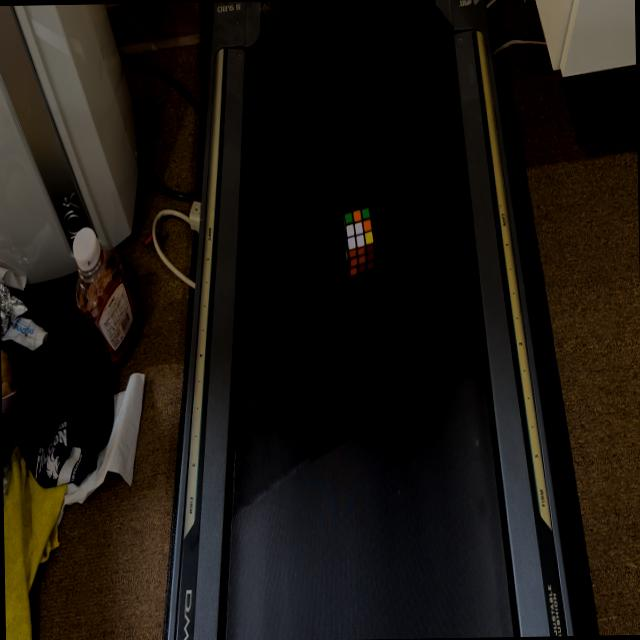Trash: (341, 208, 377, 280)
